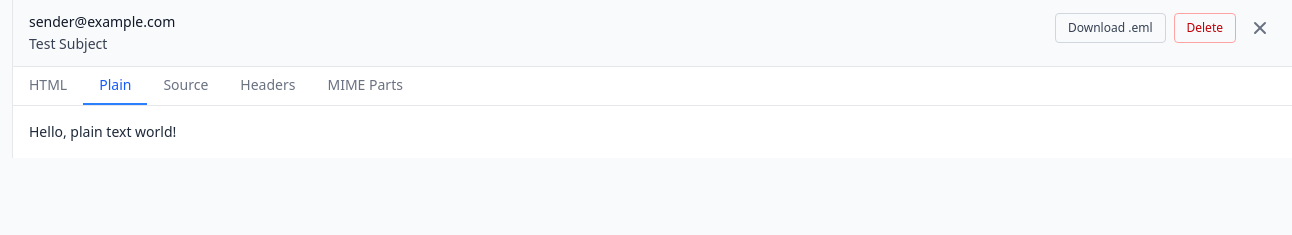
it: MessageDetail: tab rendering › switches to Source tab on click
Click the tab with test id "tab-source" at (186,86), box x1=147 y1=67 x2=224 y2=105
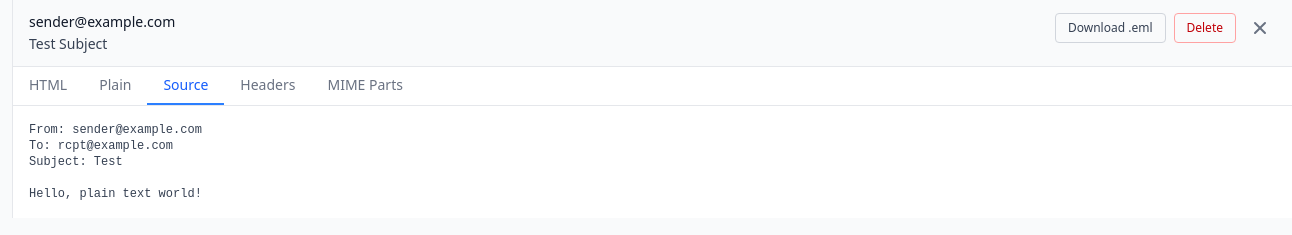
Expected: the panel with test id "panel-source" is shown, x1=29 y1=123 x2=202 y2=201
